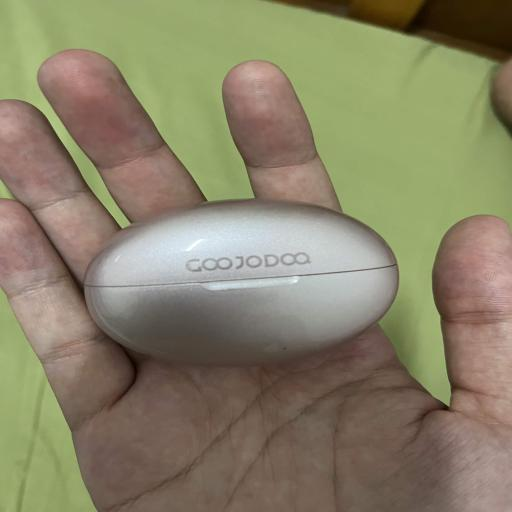GOOJODOQ: (83, 199, 398, 366)
